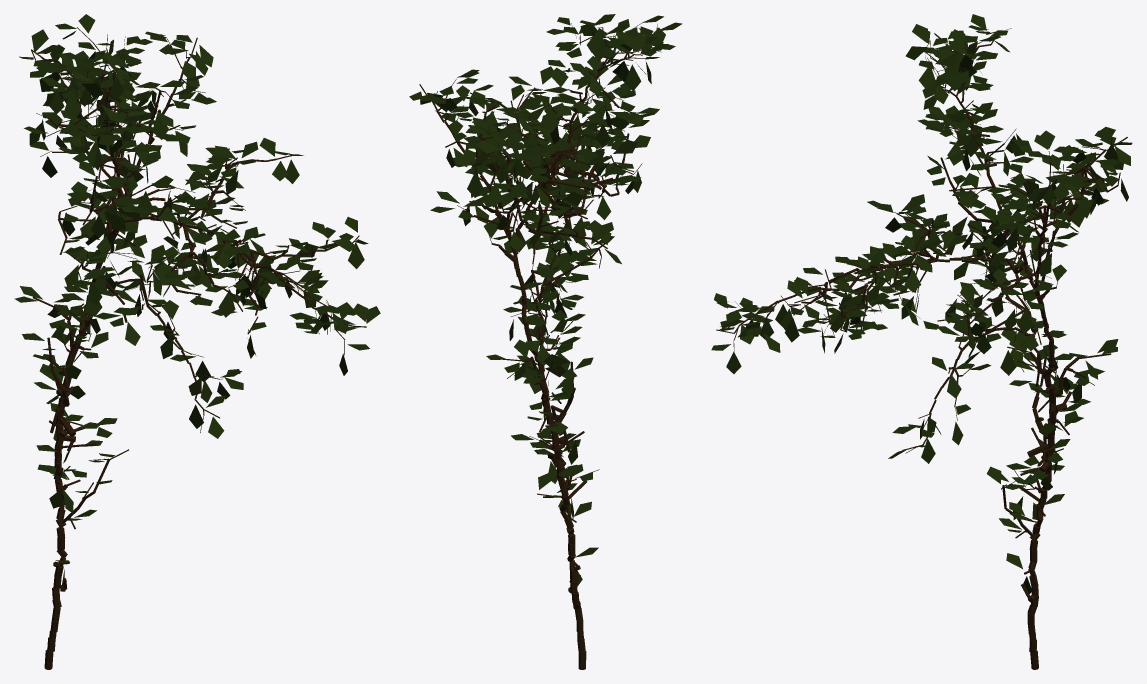
File: tree_418.obj
3 renders of one model, left to right at view 1: azimuth 30°, elevation 25°; view 2: azimuth 150°, elevation 25°; view 3: azimuth 270°, elevation 25°, orthographic. The views are drawn at different scales.
Parts seen in each view (by area): view 1: Leaves, TrunkAndBranches; view 2: Leaves, TrunkAndBranches; view 3: Leaves, TrunkAndBranches.
Boxes of the visible parts, x1,y1,x2,y2 form: Leaves: (14, 14, 380, 588); TrunkAndBranches: (31, 27, 366, 669); Leaves: (409, 14, 682, 586); TrunkAndBranches: (419, 22, 661, 669); Leaves: (711, 14, 1132, 593); TrunkAndBranches: (716, 31, 1127, 669).
Bounding box in the file's own units: 3.39 × 7.58 × 4.51.
